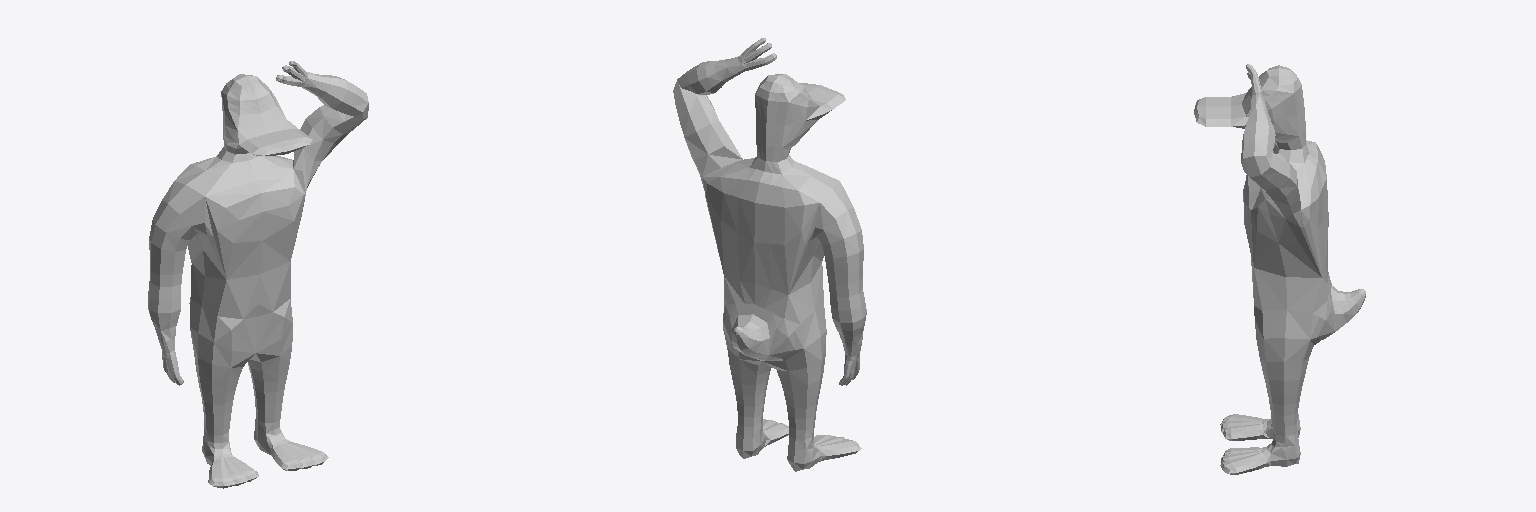
The model's file is canard_000012.obj.
The picture shows the model from 3 angles: view 1: azimuth 30°, elevation 25°; view 2: azimuth 150°, elevation 25°; view 3: azimuth 270°, elevation 25°; orthographic projection.
Parts seen in each view (by area): view 1: Cube; view 2: Cube; view 3: Cube.
Boxes of the visible parts, <box> form: Cube: <box>148,61,368,488</box>; Cube: <box>673,38,866,471</box>; Cube: <box>1194,64,1365,474</box>.
Size of the model in its own units: 1.54 by 2.94 by 1.14.